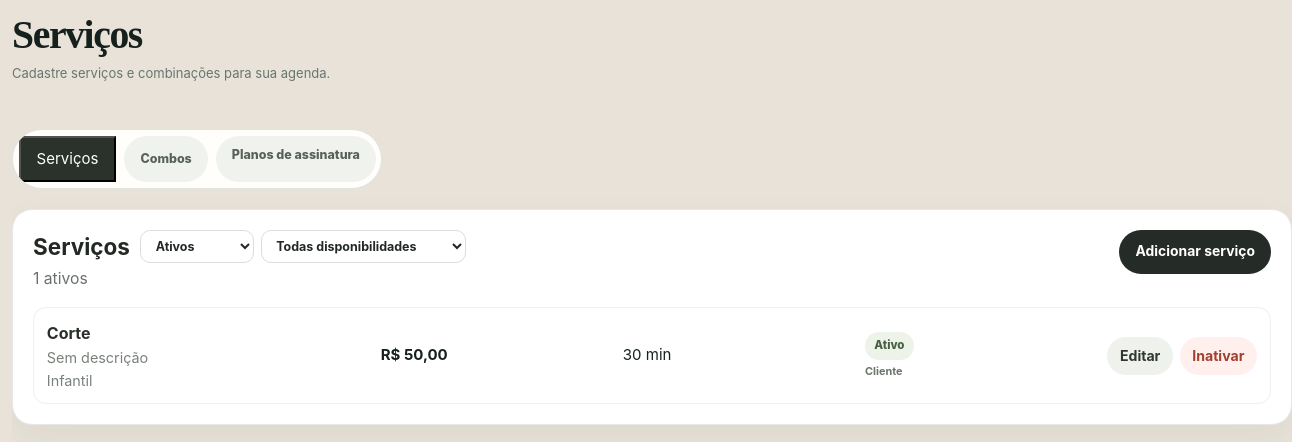
Scenario: catálogo do gestor › mostra públicos múltiplos e conta somente itens ativos do pacote
Click the button "Combos": (166, 159) 124,136 -> 208,182
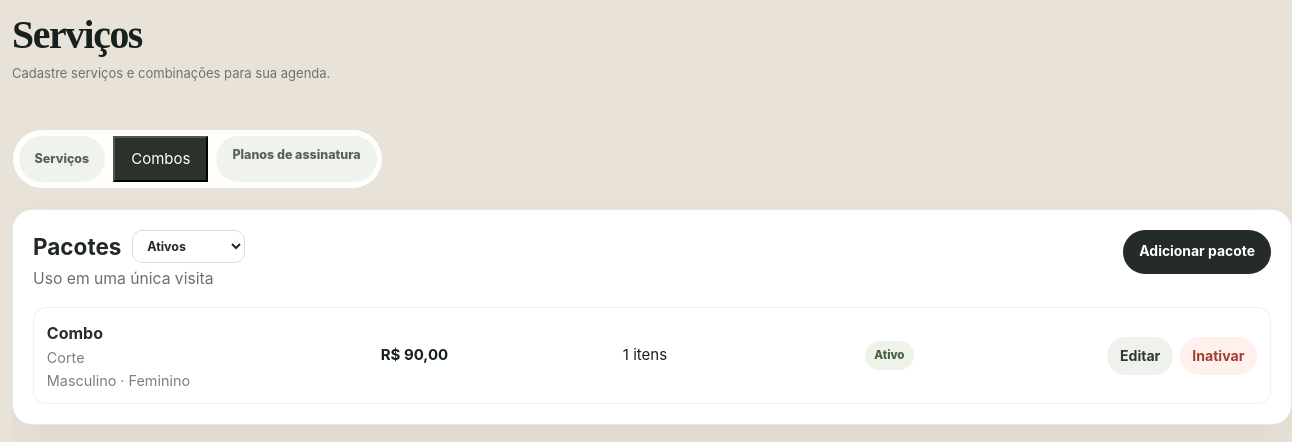
Expected: the dropdown named "Filtro de pacotes" shows "Ativos", 132,230 -> 245,263
Now the text "1 itens" is shown, box 623,346 -> 667,364
Now the text "Masculino · Feminino" is shown, box 47,372 -> 190,389
